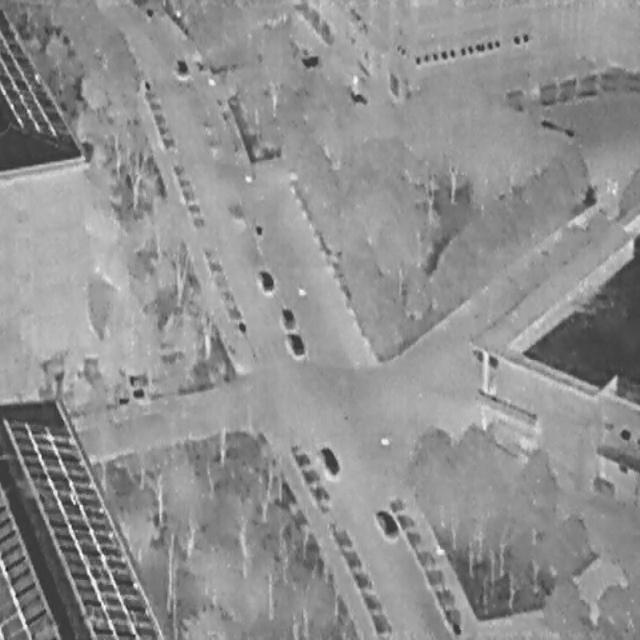Car: (373, 502, 399, 542), (318, 442, 341, 476), (286, 328, 305, 358), (256, 265, 274, 294), (279, 304, 295, 330), (174, 55, 189, 77)
